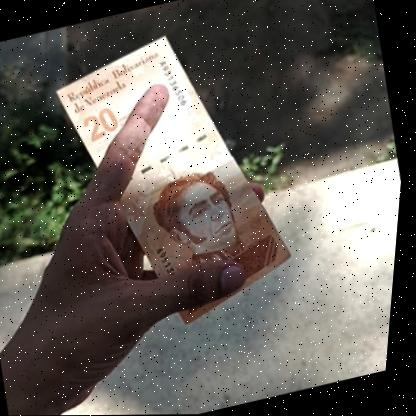twenty-front-vef: (35, 13, 323, 351)
